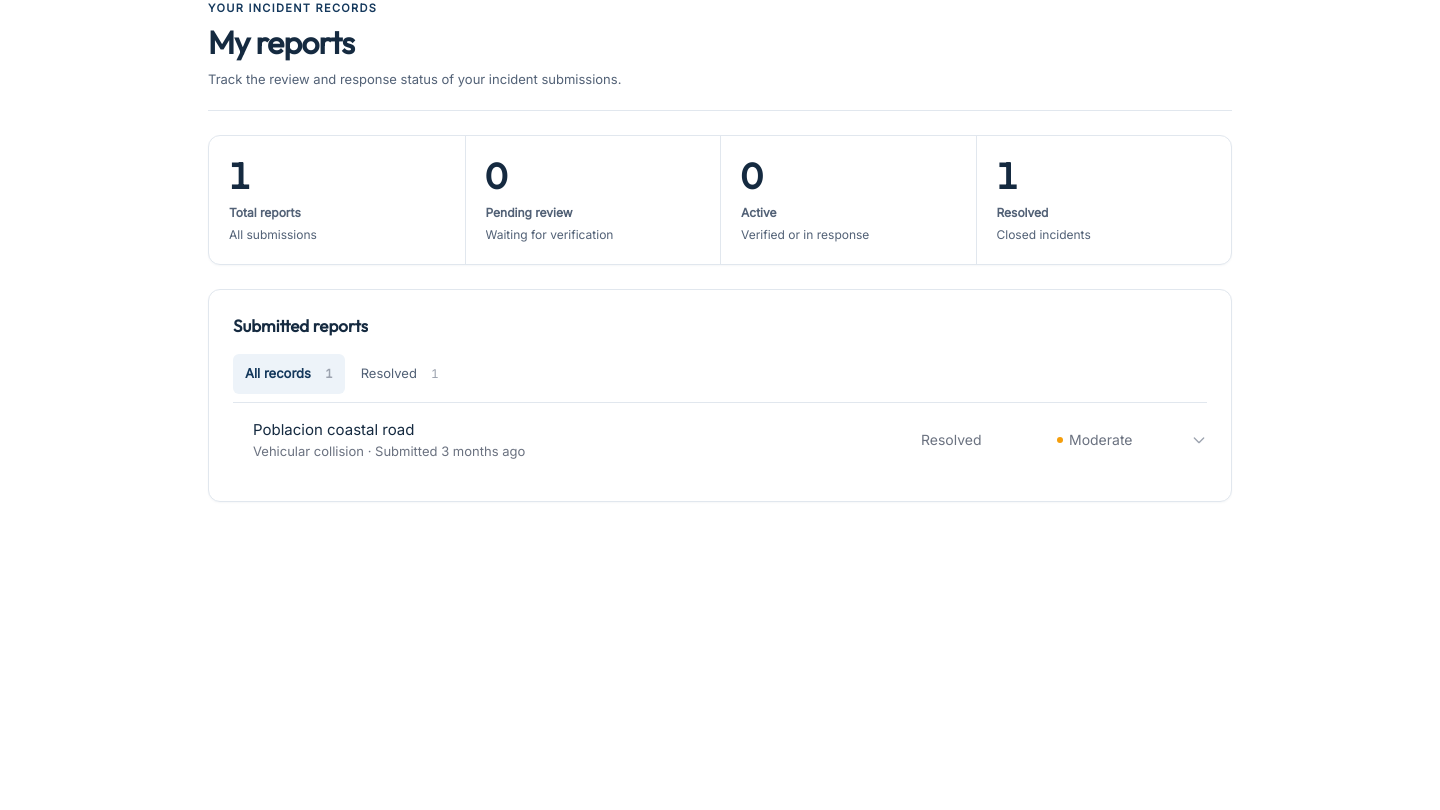
Test case: resolution photo viewer button in the resolved timeline row › resolved report with photos: shows the button, no thumbnail section
Click the heading "Poblacion coastal road" at (334, 429), box x1=253 y1=420 x2=414 y2=439
(page scrolled)
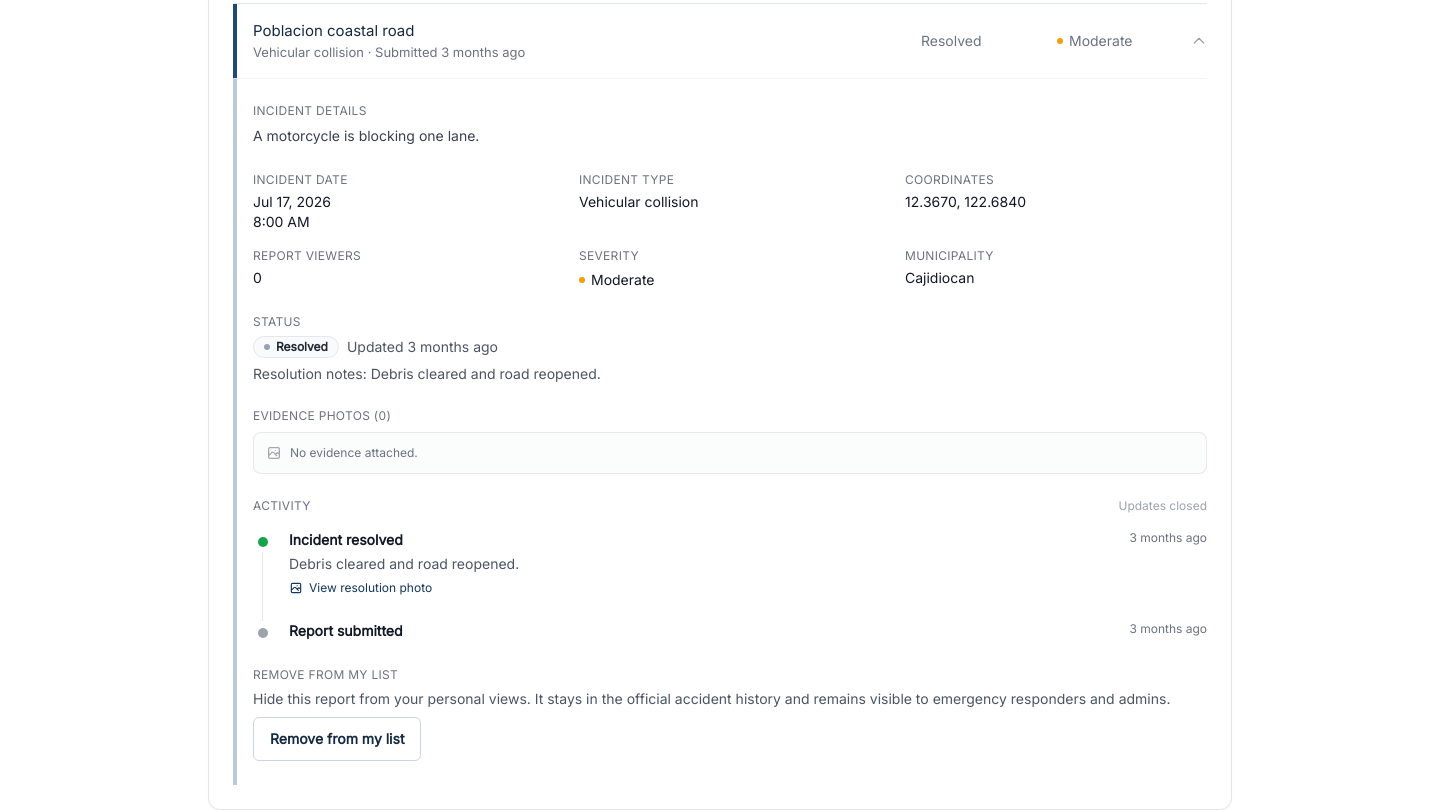
Expected: the heading "Evidence photos (0)" is shown, x1=253 y1=408 x2=391 y2=423
Expected: the button "View resolution photo" is shown, x1=289 y1=580 x2=432 y2=596
